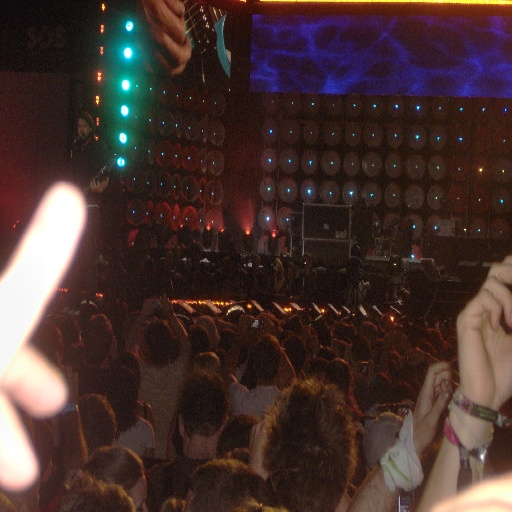hand: (0, 179, 87, 494), (449, 263, 510, 446), (412, 360, 453, 450), (431, 470, 511, 511), (248, 419, 270, 480), (140, 296, 160, 319), (257, 314, 277, 337), (236, 313, 256, 335), (157, 294, 174, 317), (349, 359, 363, 384), (362, 359, 373, 384)
